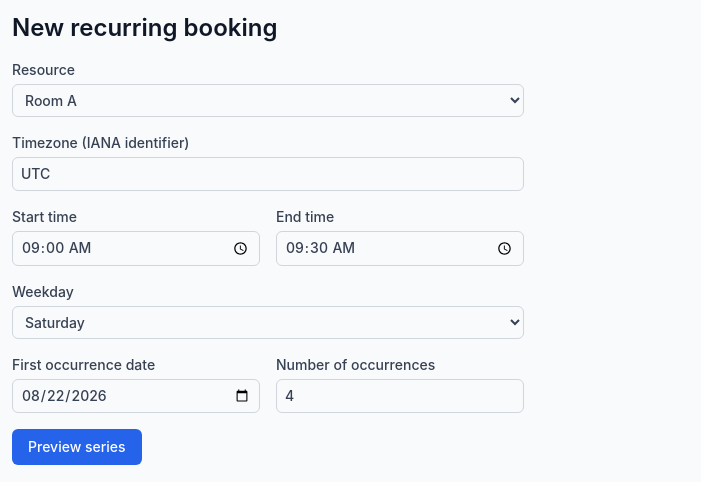
Test case: RecurringSeriesPage — end-to-end preview -> acknowledge -> confirm › walks the full flow and renders the 207 result as a success
Step 1. Click the button "Preview series" → click(77, 447), box [12,429,142,465]
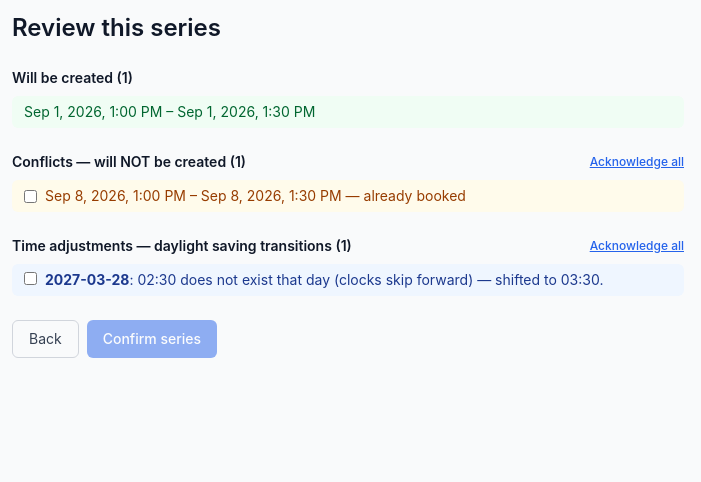
Check: the heading "Review this series" is shown, box [12,13,221,42]
Check: the button "Confirm series" is disabled, box [87,320,217,358]
Step 2. Click the button "Acknowledge all" in the row of "Conflicts — will NOT be created (" → click(637, 162), box [590,154,684,170]
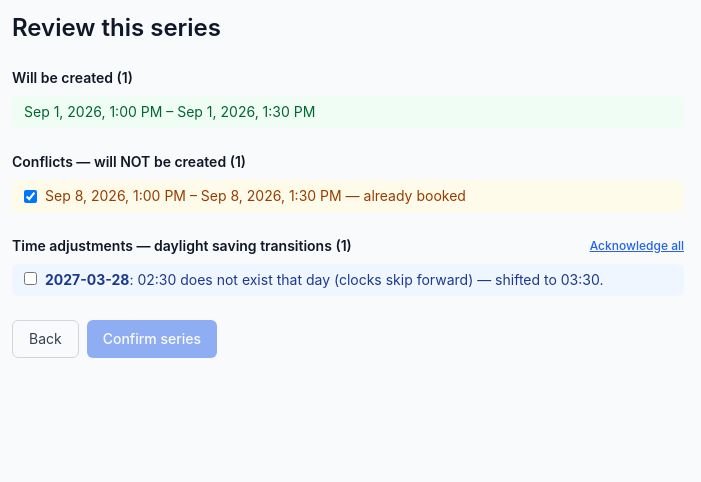
Step 3. Click the button "Acknowledge all" → click(637, 246), box [590,238,684,254]
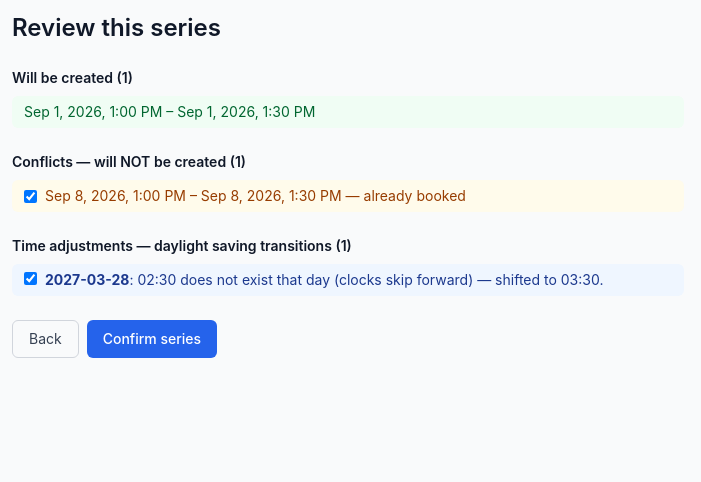
Check: the button "Confirm series" is enabled
Step 4. Click the button "Confirm series" → click(152, 339), box [87,320,217,358]
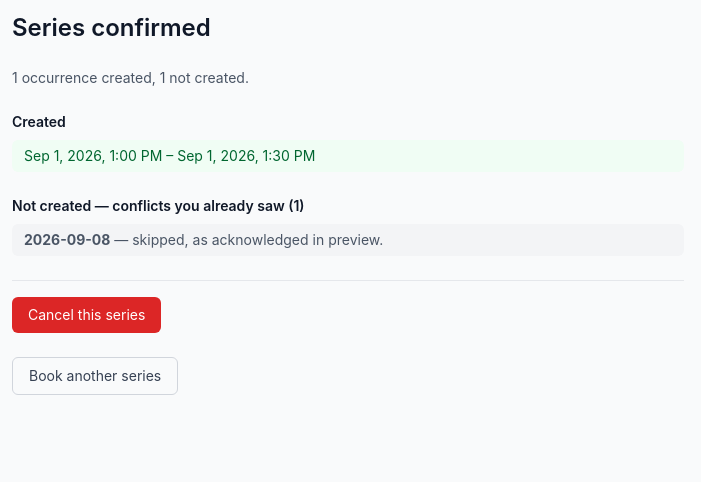
Check: the heading "Series confirmed" is shown, box [12,13,211,42]
